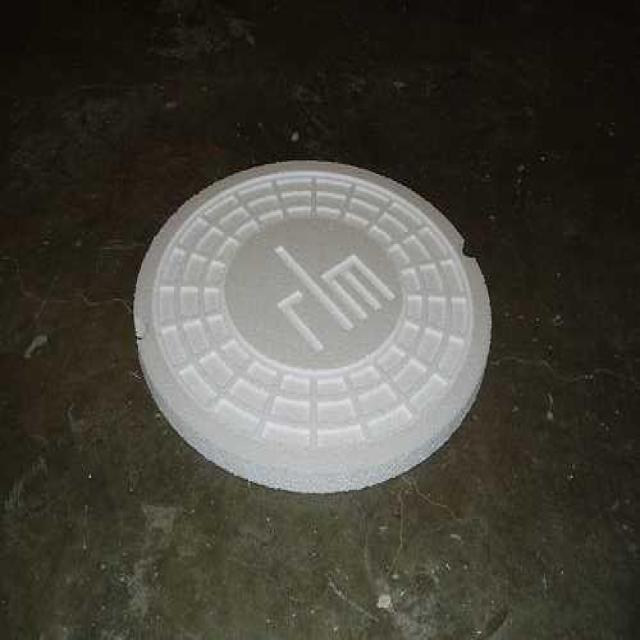manhole: (131, 160, 493, 497)
